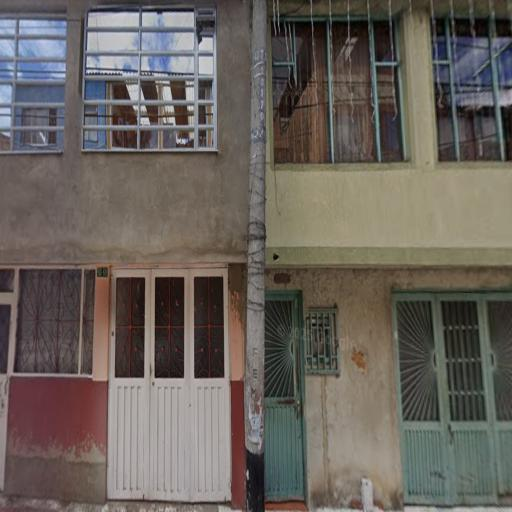Casa: (0, 0, 252, 511), (265, 0, 512, 512)
postes: (244, 0, 269, 511)
